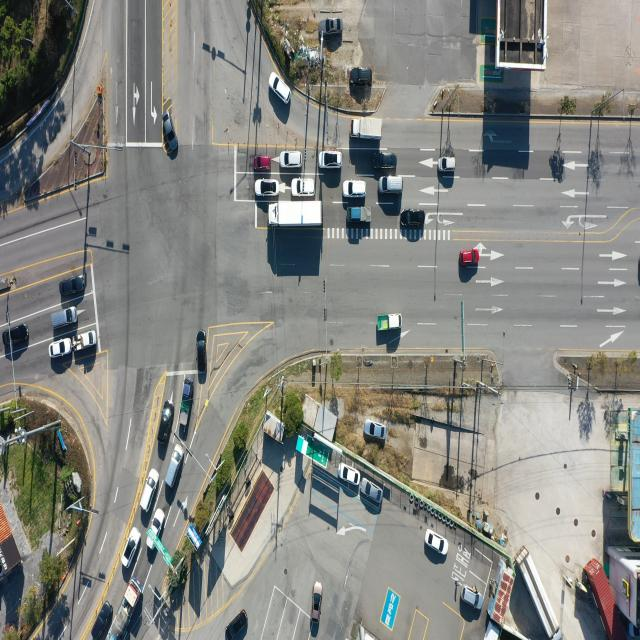car: (139, 468, 159, 514), (166, 442, 185, 488), (122, 526, 143, 567), (220, 610, 247, 640), (90, 605, 112, 640), (148, 506, 166, 546), (50, 306, 80, 330), (271, 74, 292, 107), (161, 112, 177, 155), (157, 404, 172, 444), (460, 585, 482, 611), (312, 582, 322, 638), (3, 324, 28, 346), (425, 534, 447, 558), (362, 480, 383, 504), (61, 276, 86, 296), (198, 332, 208, 382), (339, 463, 361, 485), (402, 209, 427, 228), (320, 149, 343, 169), (51, 340, 74, 360), (291, 178, 314, 197), (374, 153, 398, 171), (343, 180, 367, 198), (379, 176, 403, 194), (364, 420, 385, 440), (255, 179, 278, 197), (281, 153, 303, 170), (352, 66, 372, 84), (322, 18, 342, 35), (459, 250, 479, 265), (440, 158, 458, 174), (255, 157, 272, 172)
medium_truck: (518, 543, 561, 637), (109, 578, 142, 640), (268, 201, 322, 229), (350, 116, 382, 139)
small_truck: (179, 379, 194, 425), (378, 314, 402, 332), (348, 206, 372, 224), (74, 331, 95, 350)
